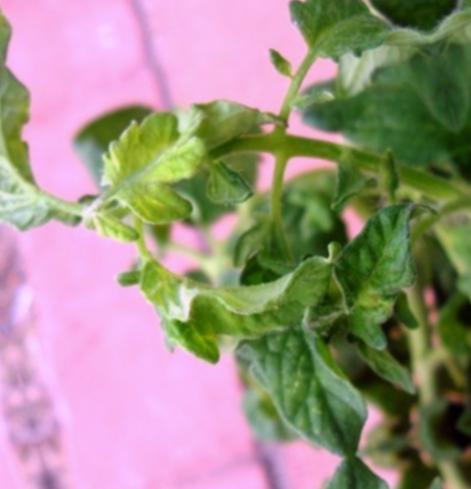Tomato leaf yellow virus: (116, 206, 371, 393), (77, 61, 297, 244), (232, 284, 398, 478), (0, 56, 88, 269), (263, 0, 437, 95)
